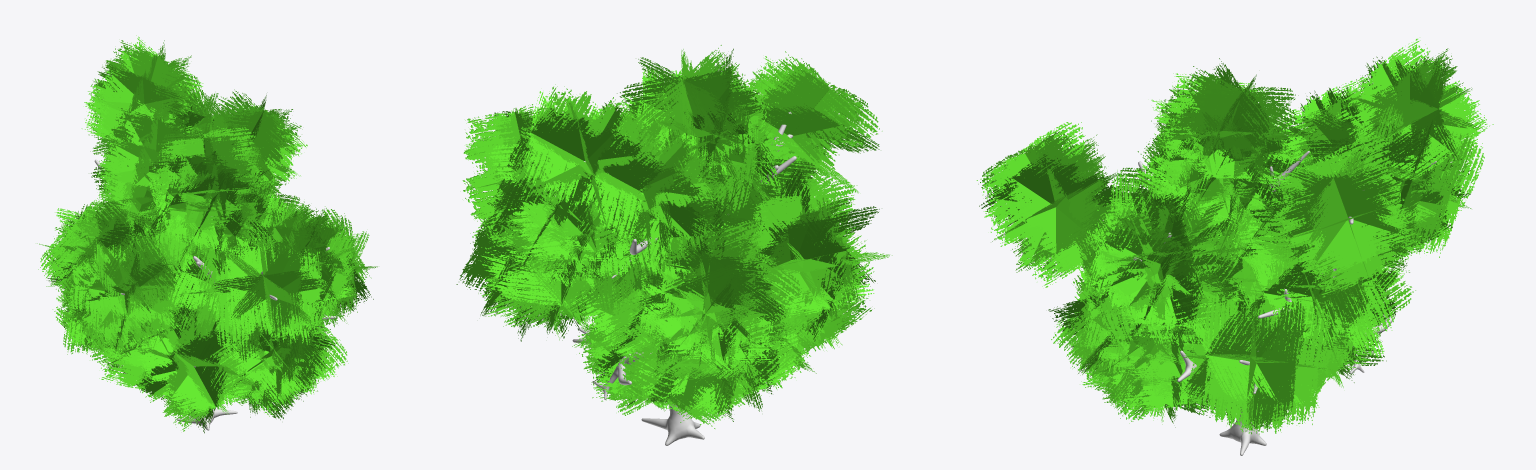
Rendered from Big_Tree.fbx.
3 views of the same model, side by side, from view 1: azimuth 30°, elevation 25°; view 2: azimuth 150°, elevation 25°; view 3: azimuth 270°, elevation 25° (orthographic). The views are drawn at different scales.
Parts seen in each view (by area): view 1: Leaves.003, Tree_barl.001; view 2: Leaves.003, Tree_barl.001; view 3: Leaves.003, Tree_barl.001.
Boxes of the visible parts, <box> form: Leaves.003: <box>37,35,377,433</box>; Tree_barl.001: <box>94,129,336,430</box>; Leaves.003: <box>456,45,892,428</box>; Tree_barl.001: <box>545,111,796,445</box>; Leaves.003: <box>976,38,1493,434</box>; Tree_barl.001: <box>1103,151,1436,455</box>.
Size of the model in its own units: 5637 by 5290 by 6491.
